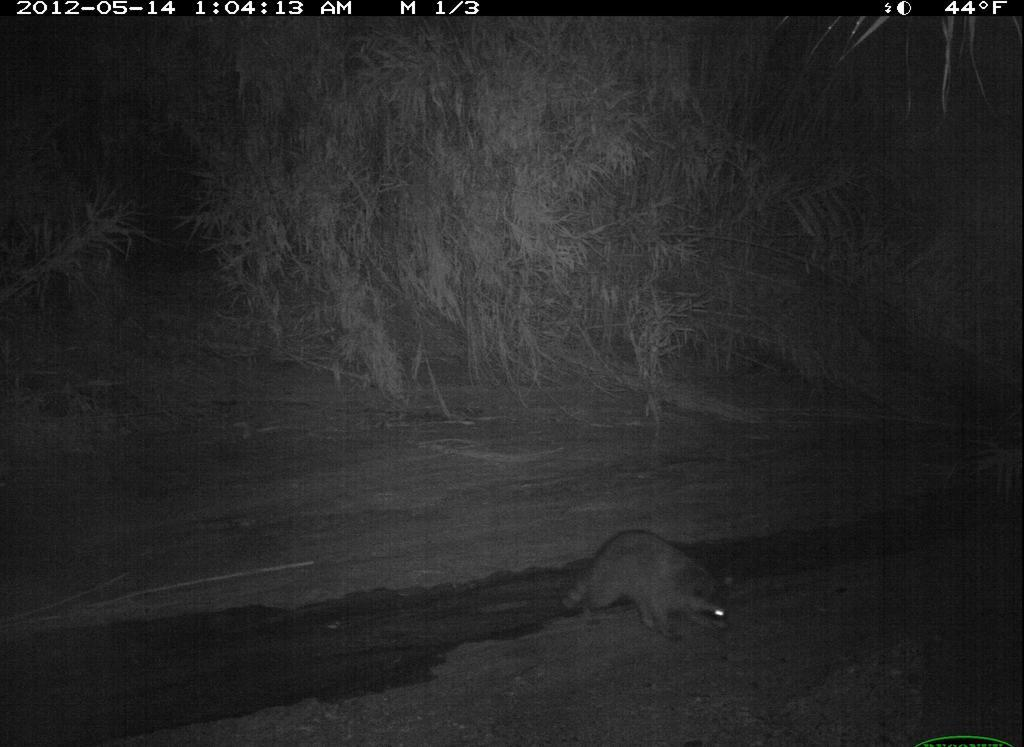raccoon: (560, 523, 744, 649)
